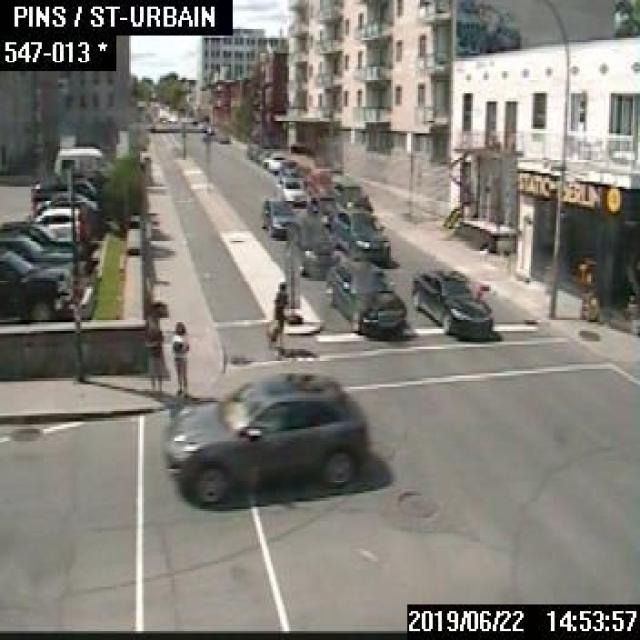pedestrian: (142, 302, 164, 393), (169, 320, 187, 396), (268, 280, 286, 349)
vehicle: (162, 370, 368, 506), (409, 264, 495, 340), (324, 258, 406, 334), (0, 247, 71, 320), (286, 214, 339, 278), (330, 205, 389, 259), (0, 233, 73, 264), (30, 204, 84, 240), (53, 145, 113, 176), (0, 221, 73, 246), (34, 189, 95, 215), (31, 175, 95, 199), (260, 195, 295, 236), (334, 182, 372, 212), (274, 174, 306, 203), (305, 190, 336, 215), (307, 170, 335, 190), (261, 151, 288, 170), (278, 158, 299, 174)
